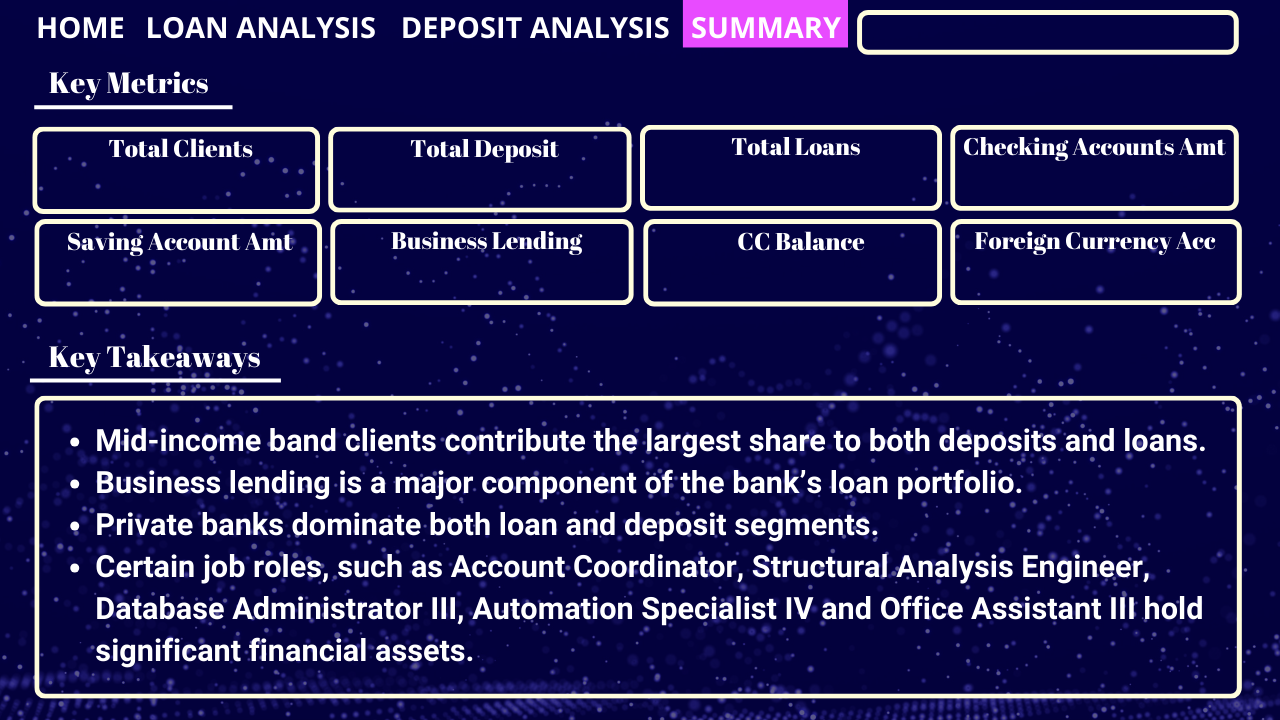

What the dashboard file says about the page in this screenshot:
{"tool":"powerbi","page":{"name":"Summary","canvas":[1280,720],"ordinal":3},"visuals":[{"type":"slicer","fields":{"Values":["Banking.joined year"]},"box":[858.4,11.8,381.3,33.6],"z":0},{"type":"actionButton","box":[28.6,8.4,102.5,40.3],"z":1000},{"type":"actionButton","box":[146.1,11.8,240.2,37],"z":2000},{"type":"actionButton","box":[396.4,0,277.2,45.4],"z":3000},{"type":"card","fields":{"Values":["CountNonNull(Banking.Client ID)"]},"box":[102.7,146,144.6,60.7],"z":4000},{"type":"card","fields":{"Values":["own measure.total deposit"]},"box":[396.1,141.7,179.3,73.7],"z":5000},{"type":"card","fields":{"Values":["own measure.total loan"]},"box":[705.5,138.8,180.7,73.7],"z":6000},{"type":"card","fields":{"Values":["Sum(Banking.Checking Accounts)"]},"box":[997.6,141.7,208.2,73.7],"z":7000},{"type":"card","fields":{"Values":["Sum(Banking.Saving Accounts)"]},"box":[65.1,235.7,219.8,73.7],"z":8000},{"type":"card","fields":{"Values":["Sum(Banking.Business Lending)"]},"box":[381.7,235.7,208.2,73.7],"z":9000},{"type":"card","fields":{"Values":["Sum(Banking.Credit Card Balance)"]},"box":[682.4,211.1,227,121.4],"z":10000},{"type":"card","fields":{"Values":["Sum(Banking.Foreign Currency Account)"]},"box":[987.5,211.1,227,121.4],"z":11000}]}

Visuals, with their boxes in screenshot pixels (x1, y1, x2, y2), scaled from the page's 1280x720 canvas onto the 1280x720 screenshot:
slicer - Banking.joined year: rect(858, 12, 1240, 45)
actionButton: rect(29, 8, 131, 49)
actionButton: rect(146, 12, 386, 49)
actionButton: rect(396, 0, 674, 45)
card - CountNonNull(Banking.Client ID): rect(103, 146, 247, 207)
card - own measure.total deposit: rect(396, 142, 575, 215)
card - own measure.total loan: rect(706, 139, 886, 212)
card - Sum(Banking.Checking Accounts): rect(998, 142, 1206, 215)
card - Sum(Banking.Saving Accounts): rect(65, 236, 285, 309)
card - Sum(Banking.Business Lending): rect(382, 236, 590, 309)
card - Sum(Banking.Credit Card Balance): rect(682, 211, 909, 332)
card - Sum(Banking.Foreign Currency Account): rect(988, 211, 1214, 332)
